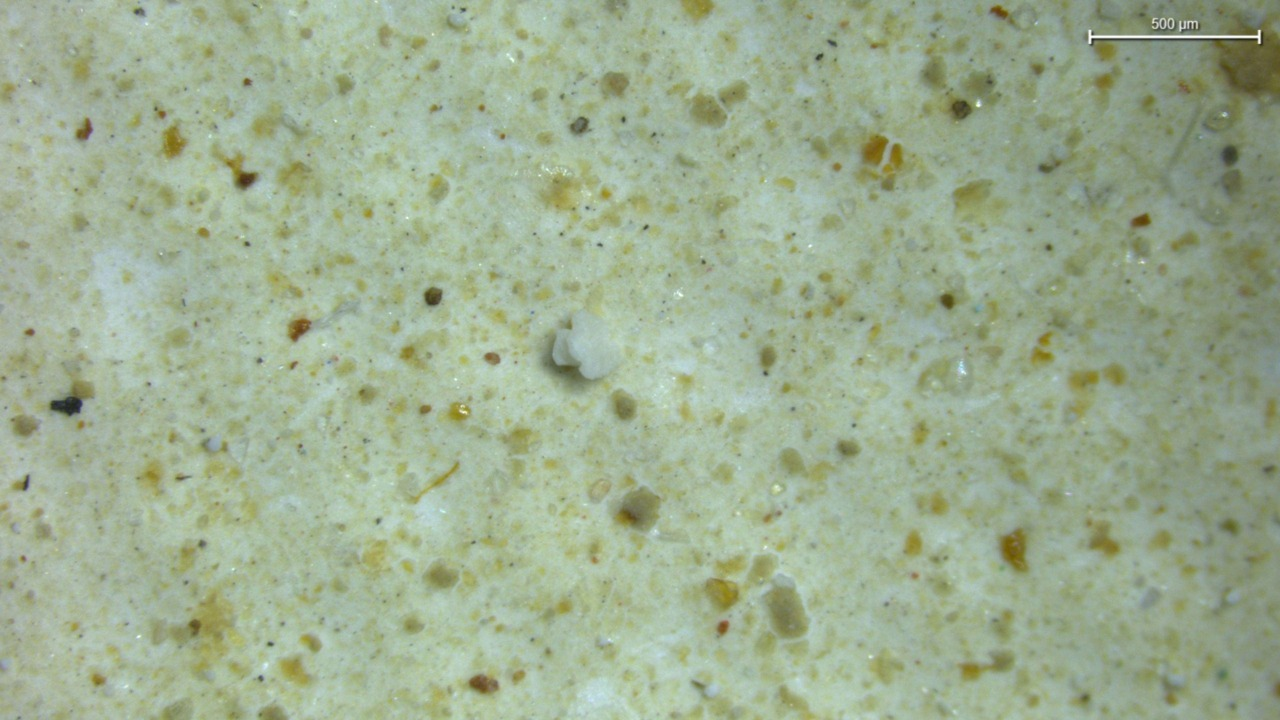microplastic_fragment: (551, 310, 620, 379)
